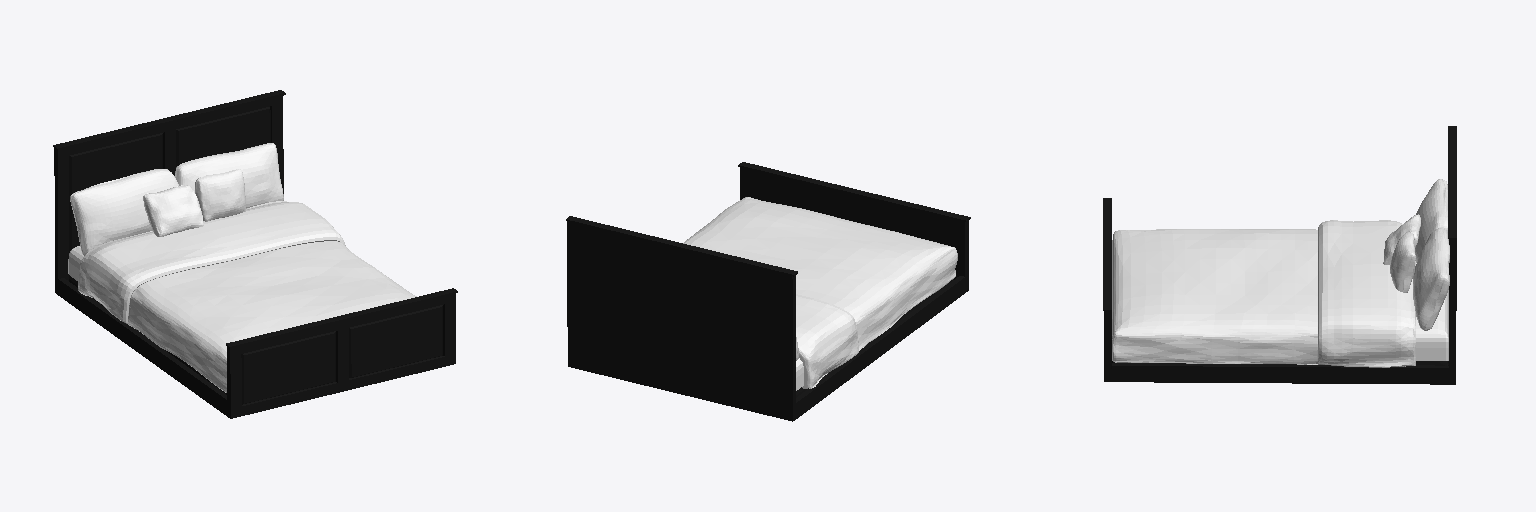
File: cama1.obj
3 renders of one model, left to right at view 1: azimuth 30°, elevation 25°; view 2: azimuth 150°, elevation 25°; view 3: azimuth 270°, elevation 25°, orthographic.
Parts seen in each view (by area): view 1: Full_Size_Bed_with_White_Sheets_Black_V1.001; view 2: Full_Size_Bed_with_White_Sheets_Black_V1.001; view 3: Full_Size_Bed_with_White_Sheets_Black_V1.001.
Boxes of the visible parts, box(x1,y1,x2,y2) form: Full_Size_Bed_with_White_Sheets_Black_V1.001: box(53, 90, 457, 418); Full_Size_Bed_with_White_Sheets_Black_V1.001: box(566, 162, 970, 421); Full_Size_Bed_with_White_Sheets_Black_V1.001: box(1103, 126, 1456, 384).
Bounding box in the file's own units: 149 × 91.7 × 199.